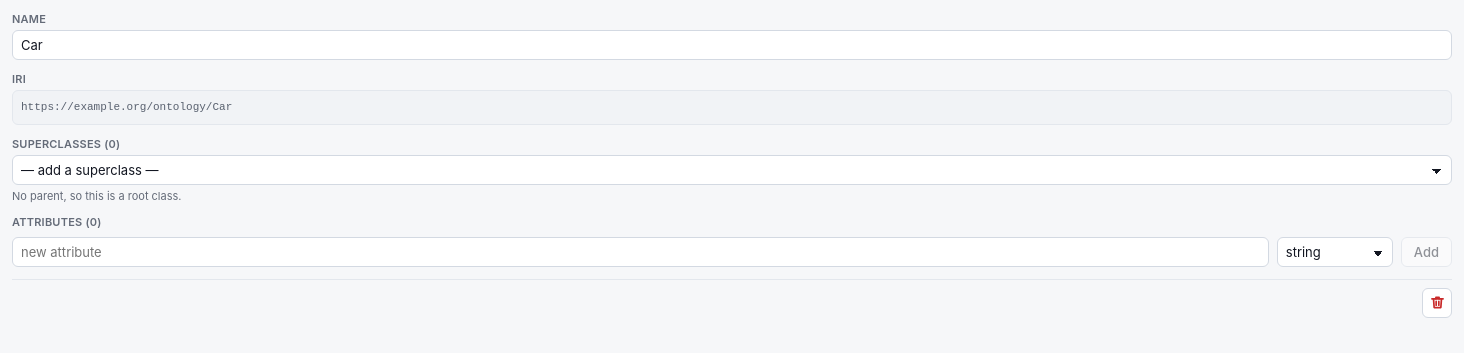
Test case: ClassDetails › can be emptied while typing, flagging itself instead of snapping back
Clear the field named "Class local name": (732, 45) [12,30,1452,60]
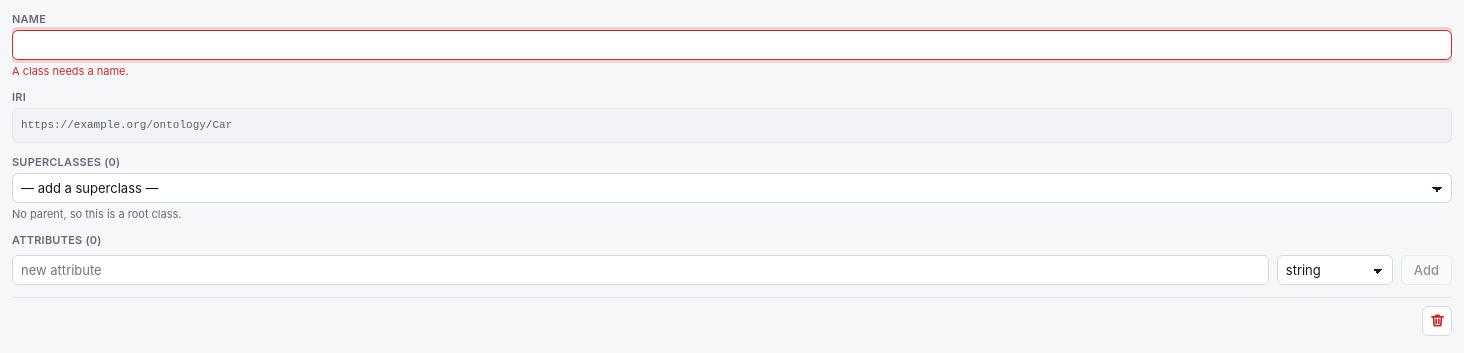
Now the text "A class needs a name." is shown, box [12,64,129,78]
